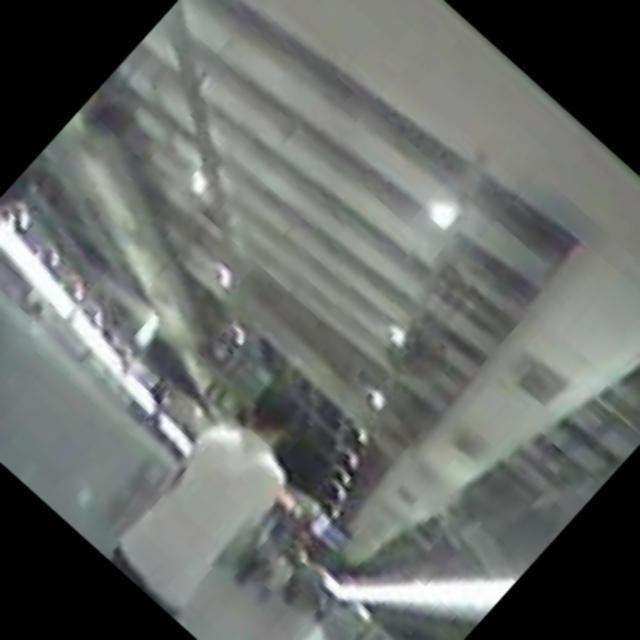person: (95, 362, 342, 620), (0, 167, 81, 392)
